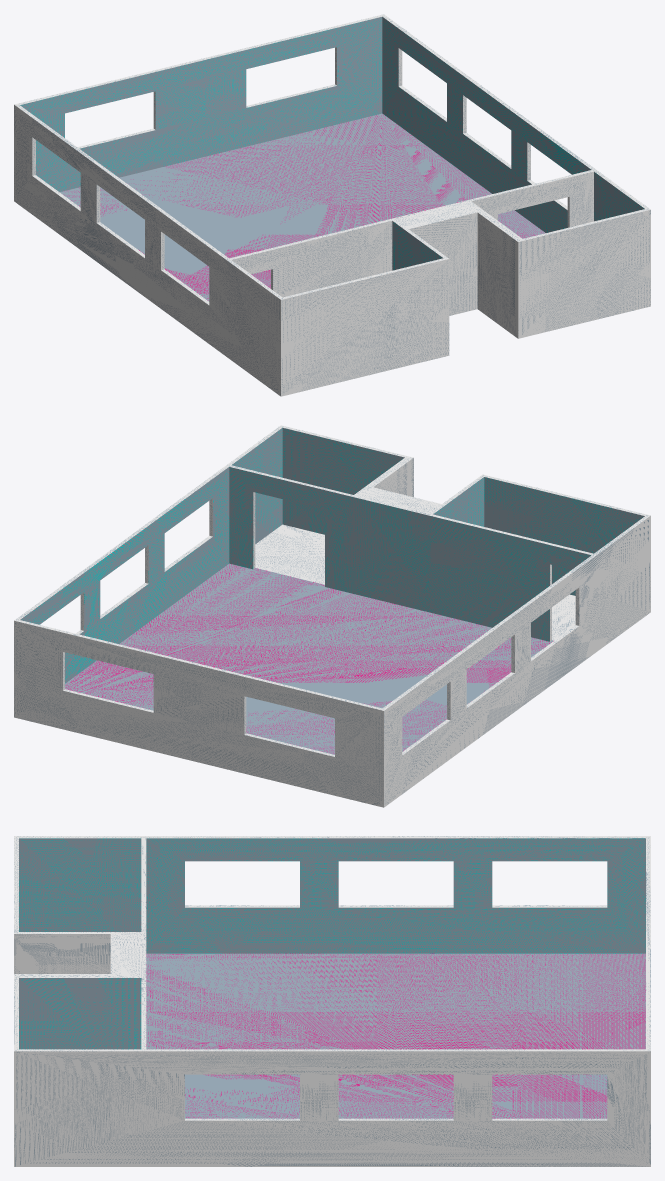
Rendered from LaboratorioDivido 1.fbx.
3 renders of one model, top to bottom at view 1: azimuth 30°, elevation 25°; view 2: azimuth 150°, elevation 25°; view 3: azimuth 270°, elevation 25°, orthographic. The views are drawn at different scales.
Parts seen in each view (by area): view 1: Model, Group1; view 2: Model, Group1; view 3: Model, Group1.
Boxes of the visible parts, left/top/right/bottom form: Model: left=14, top=14, right=650, bottom=396; Group1: left=60, top=113, right=545, bottom=301; Model: left=14, top=425, right=650, bottom=807; Group1: left=65, top=524, right=575, bottom=754; Model: left=14, top=836, right=650, bottom=1166; Group1: left=146, top=953, right=645, bottom=1118.
Size of the model in its own units: 10 by 2.5 by 12.5.
